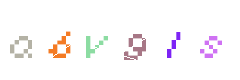1: (133, 0, 213, 80)
6: (21, 0, 101, 80)
A: (20, 0, 100, 80)
G: (96, 0, 176, 80)
S: (159, 0, 239, 80)
V: (80, 0, 160, 80)
